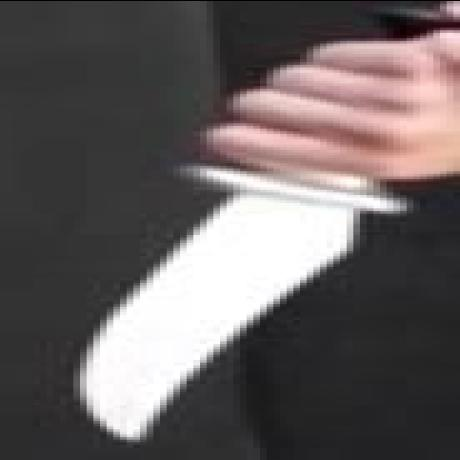1: (207, 0, 460, 186)
weapon: (59, 174, 389, 442)
